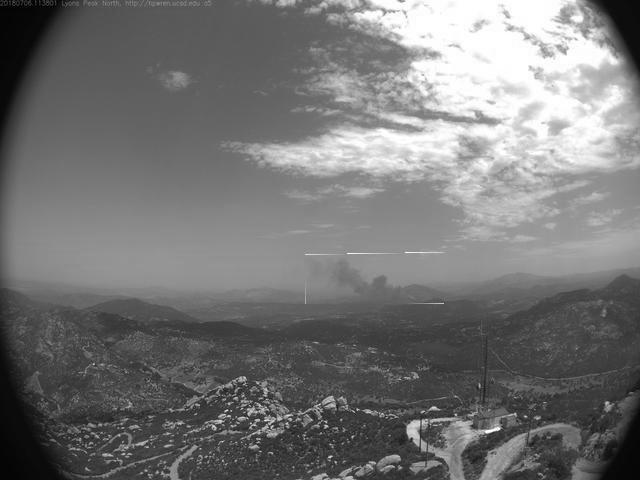smoke: (306, 254, 446, 306)
